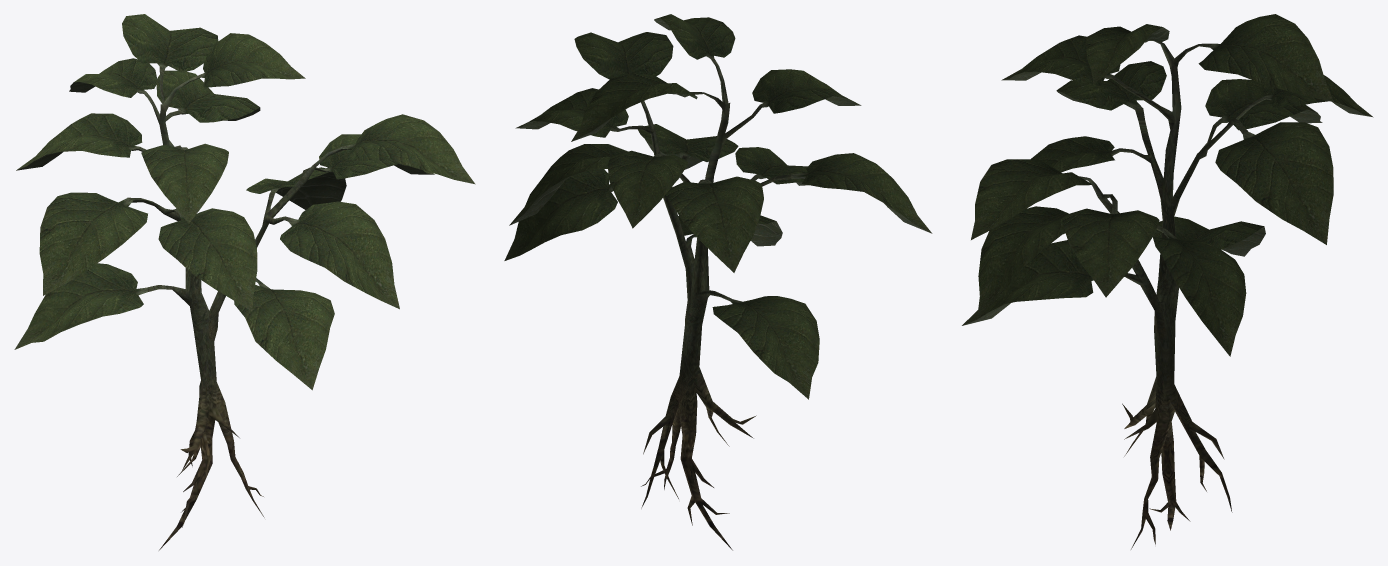
The model's file is resident_evil_0_herb.glb.
3 renders of one model, left to right at view 1: azimuth 30°, elevation 25°; view 2: azimuth 150°, elevation 25°; view 3: azimuth 270°, elevation 25°, orthographic. The views are drawn at different scales.
Parts seen in each view (by area): view 1: Object_2; view 2: Object_2; view 3: Object_2.
Part boxes in pixels (bbox=[...]): Object_2: bbox=[14, 14, 475, 550]; Object_2: bbox=[504, 14, 932, 550]; Object_2: bbox=[962, 14, 1373, 549].
Bounding box in the file's own units: 0.8365 × 1 × 0.6908.
Materials: 1 (1 with a texture image).
